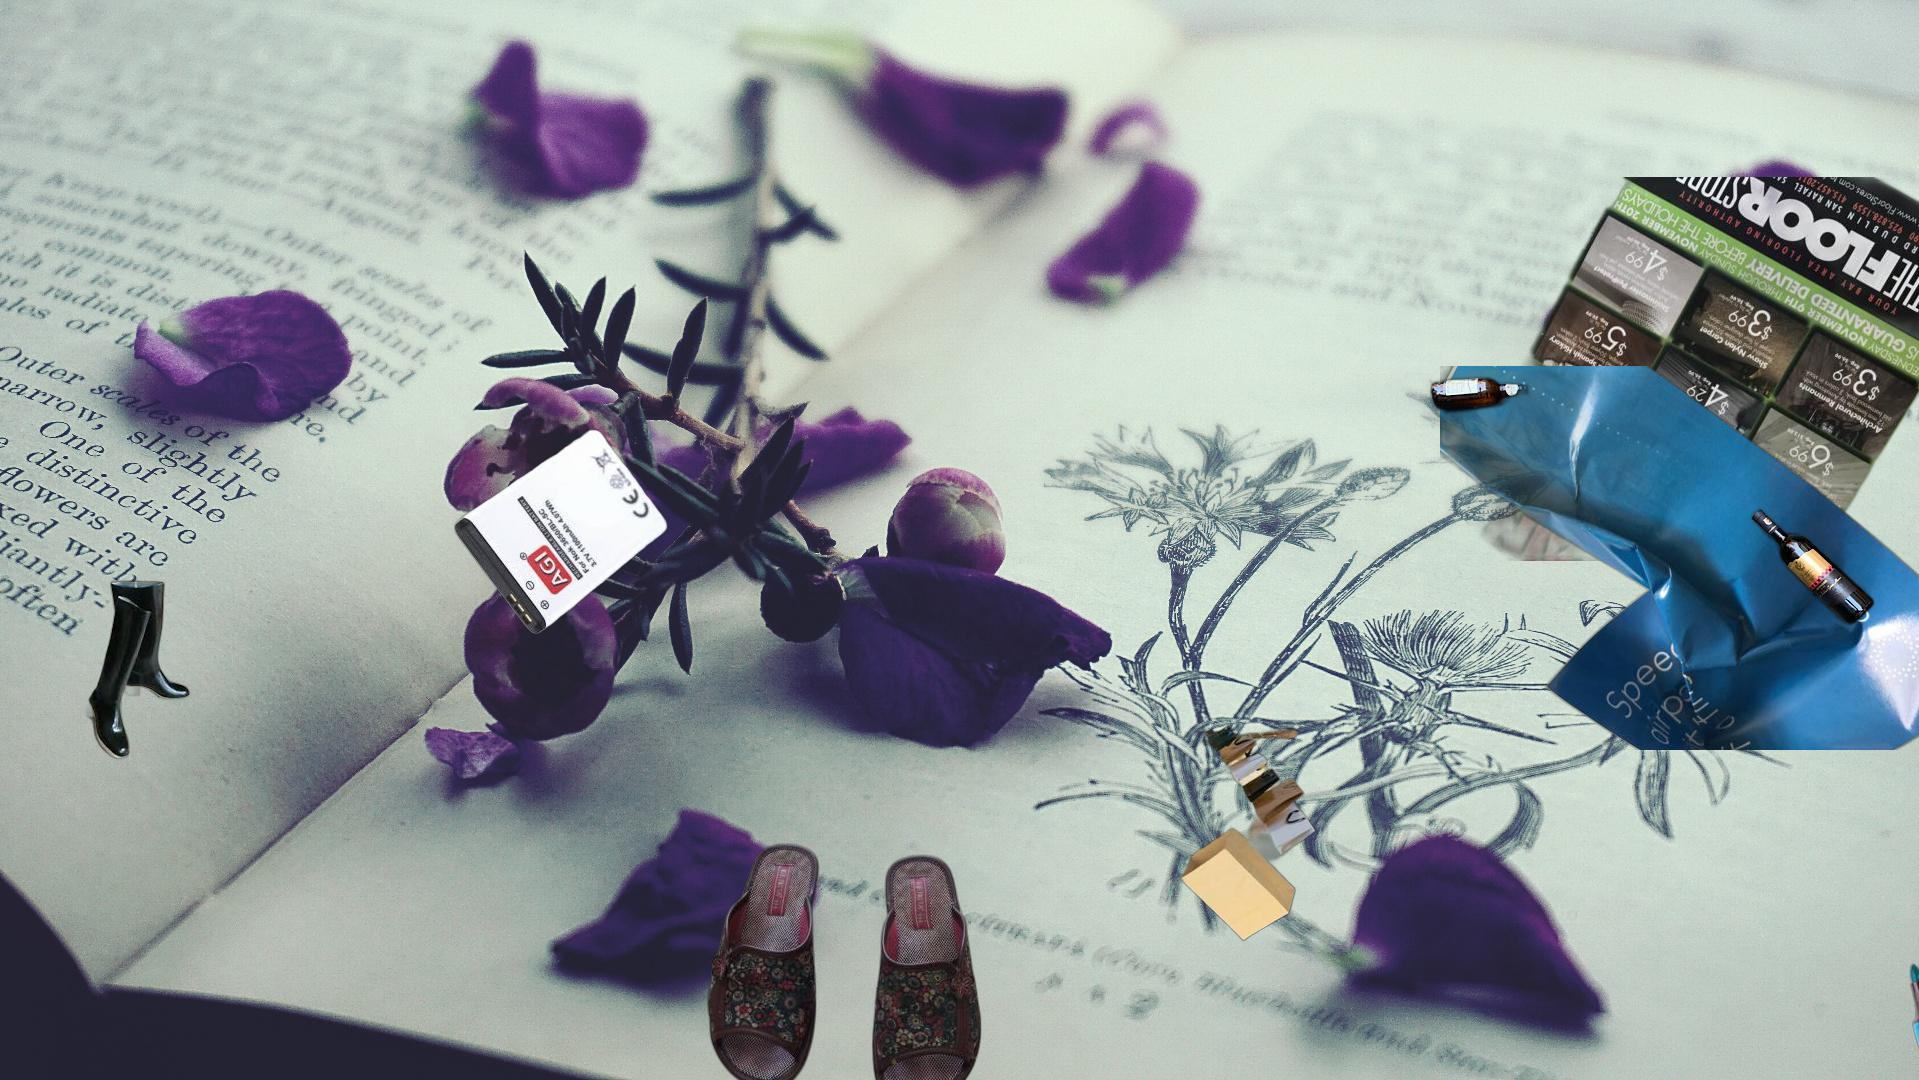battery: (452, 427, 671, 637)
glass: (1405, 371, 1879, 630)
paper: (1441, 367, 1919, 750), (1466, 177, 1919, 560)
paper-bag: (1152, 717, 1319, 942)
penholder: (1908, 884, 1919, 1080)
shoes: (704, 839, 985, 1080), (84, 578, 192, 761)
